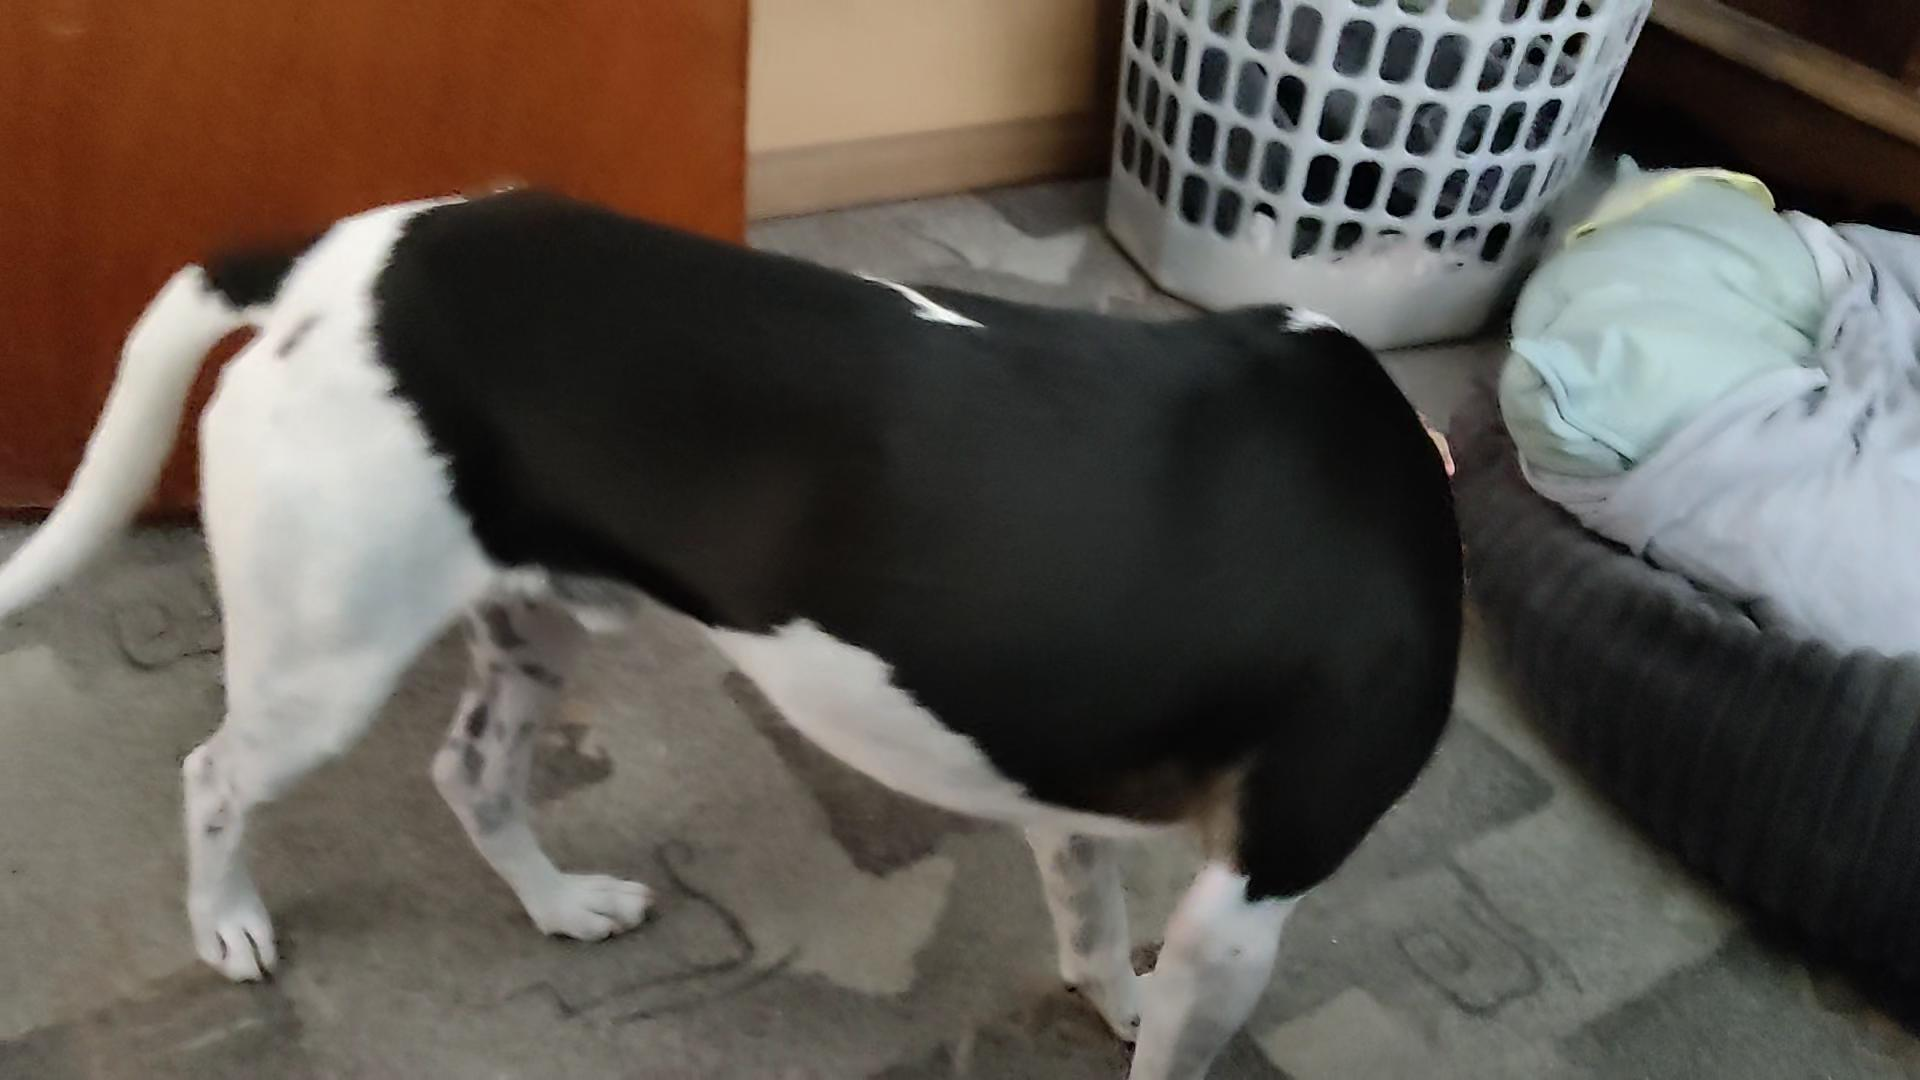Dog: (0, 133, 1485, 1079)
